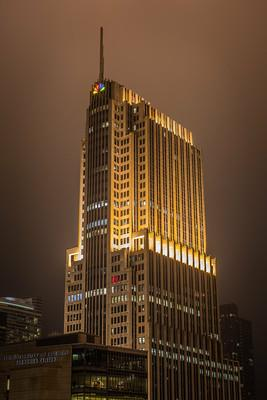building: (59, 76, 226, 398)
